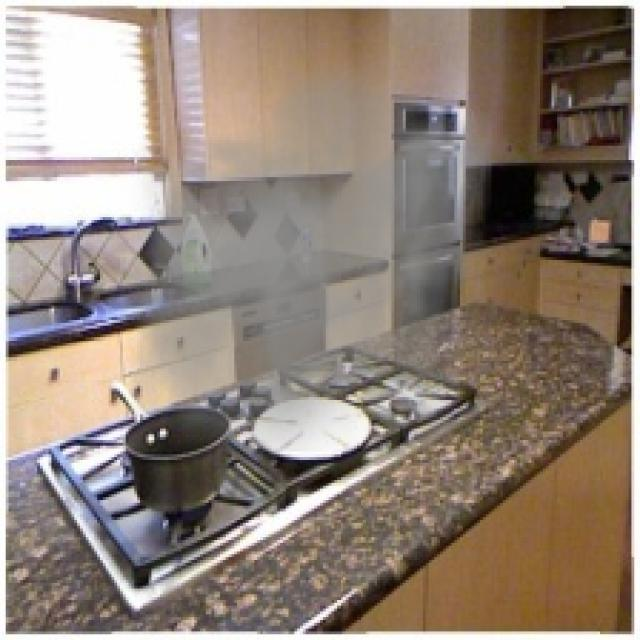Smoke: (128, 46, 492, 452)
